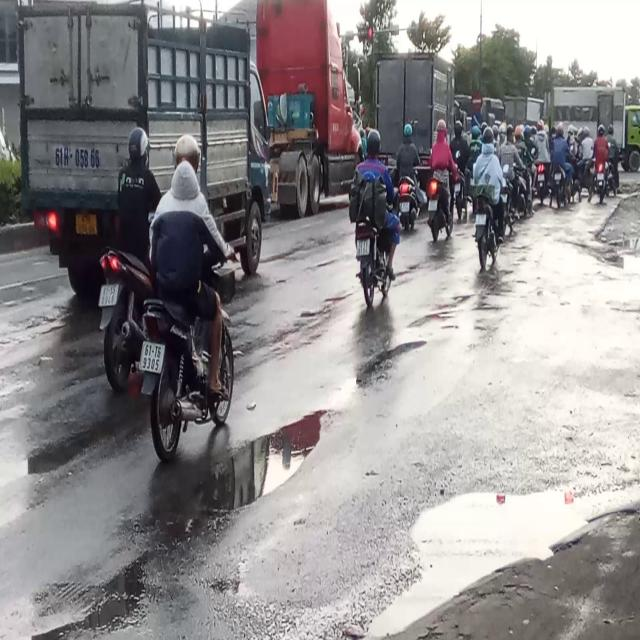bien_trang: (138, 340, 166, 375)
